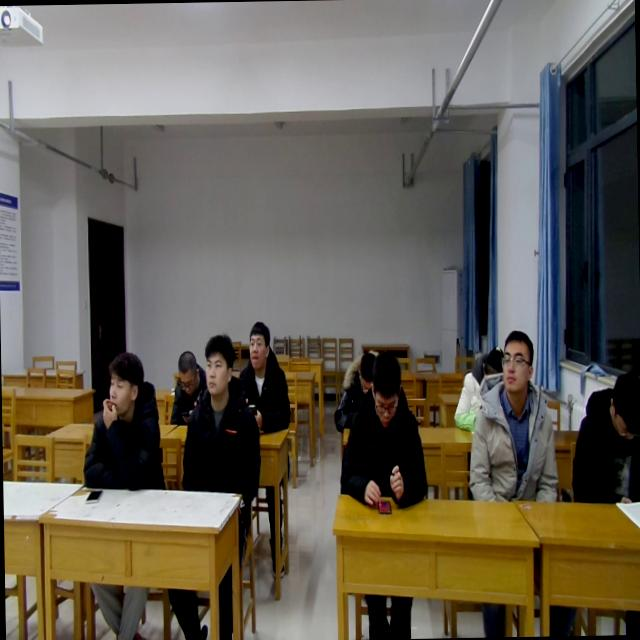bow: (450, 341, 509, 432), (332, 343, 384, 433)
down: (600, 360, 640, 444), (368, 348, 402, 425), (172, 348, 202, 396), (352, 346, 377, 396), (478, 343, 501, 393)
lookup: (101, 347, 146, 419), (500, 326, 538, 403), (200, 331, 239, 403), (244, 319, 275, 372)
sit: (464, 324, 560, 502), (334, 346, 430, 512), (178, 332, 260, 495), (80, 348, 165, 493), (568, 366, 640, 509), (237, 315, 292, 438), (167, 348, 207, 426)
